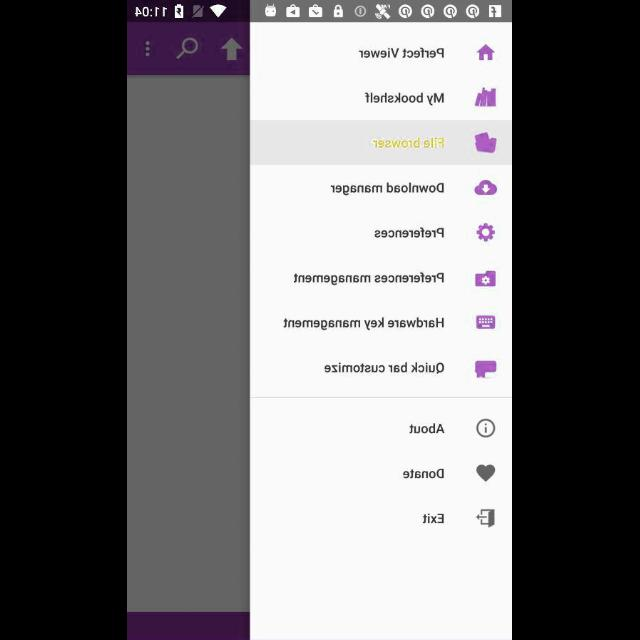icon: (177, 37, 200, 61), (222, 38, 244, 62), (476, 508, 496, 528), (476, 418, 496, 438), (475, 270, 497, 288), (474, 180, 498, 196), (476, 464, 496, 482), (476, 224, 496, 242), (476, 44, 496, 61), (147, 42, 151, 56)
image: (474, 132, 498, 154), (475, 87, 497, 107), (475, 361, 497, 379), (476, 315, 496, 329)
panel: (250, 24, 512, 640)
text: (294, 270, 446, 286), (284, 317, 446, 331), (330, 182, 446, 196), (326, 362, 446, 374), (364, 92, 446, 106), (358, 48, 446, 60), (373, 136, 445, 150), (375, 227, 445, 240), (403, 468, 445, 479), (408, 423, 446, 435), (422, 512, 444, 524)
uppertaskbar: (128, 1, 512, 23)
